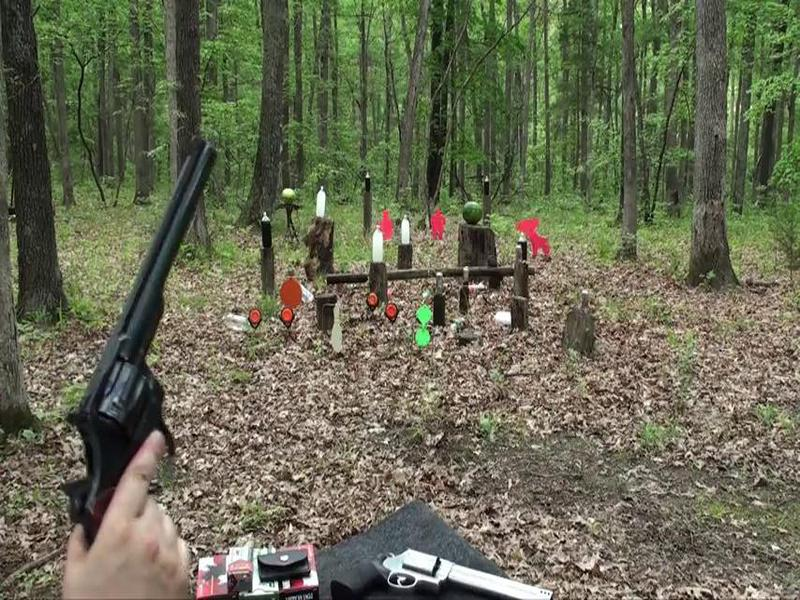Revolver: (74, 131, 234, 553)
